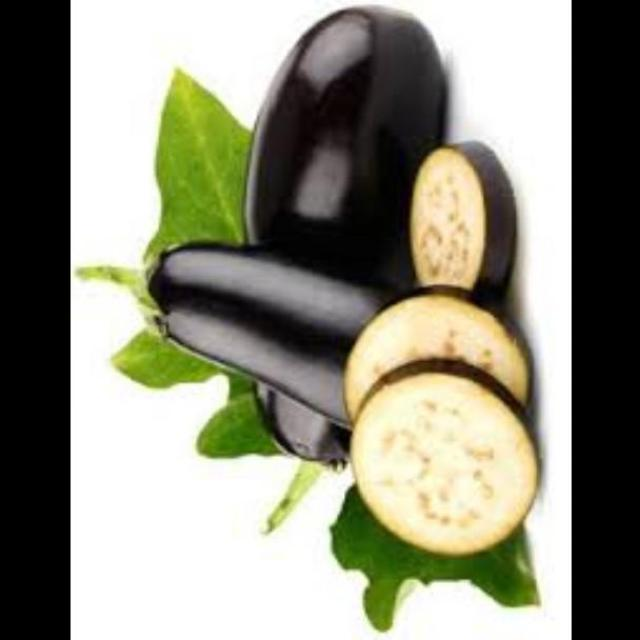eggplant: (204, 1, 419, 540), (316, 115, 518, 567), (80, 236, 406, 390)
